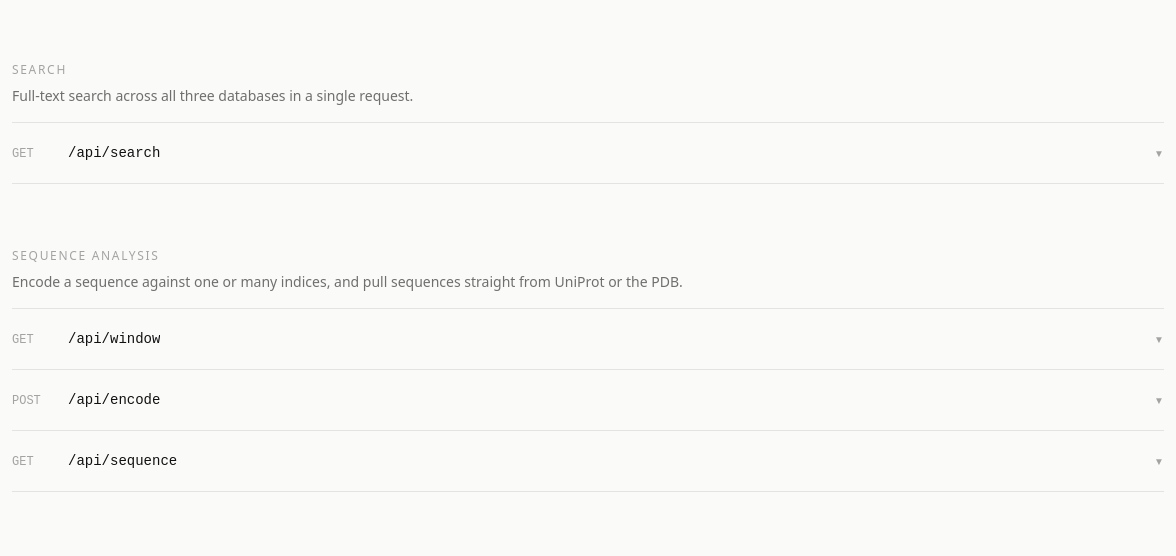
APIReference — code examples and downloads › shows a curl example by default and switches to Python and R
The image size is (1176, 556).
(page scrolled)
Click the button "GET /api/window ▼" at coordinates (114, 339), box [12,309,1164,369]
(page scrolled)
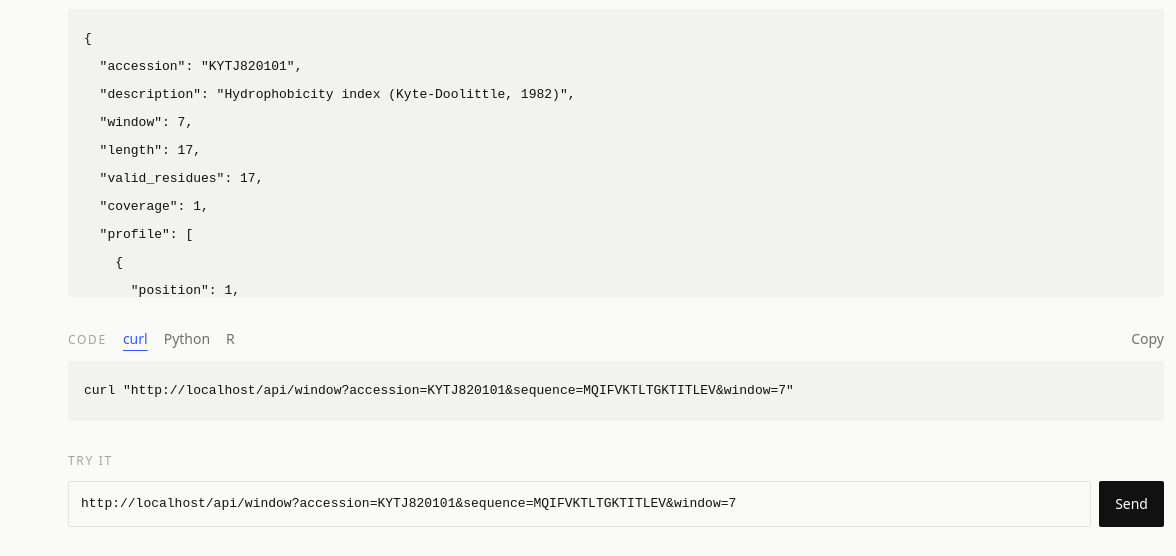
Expected: the text "curl \"http" is shown, [84,383,794,398]
Click the button "Python" at coordinates (187, 339), box [164,329,210,349]
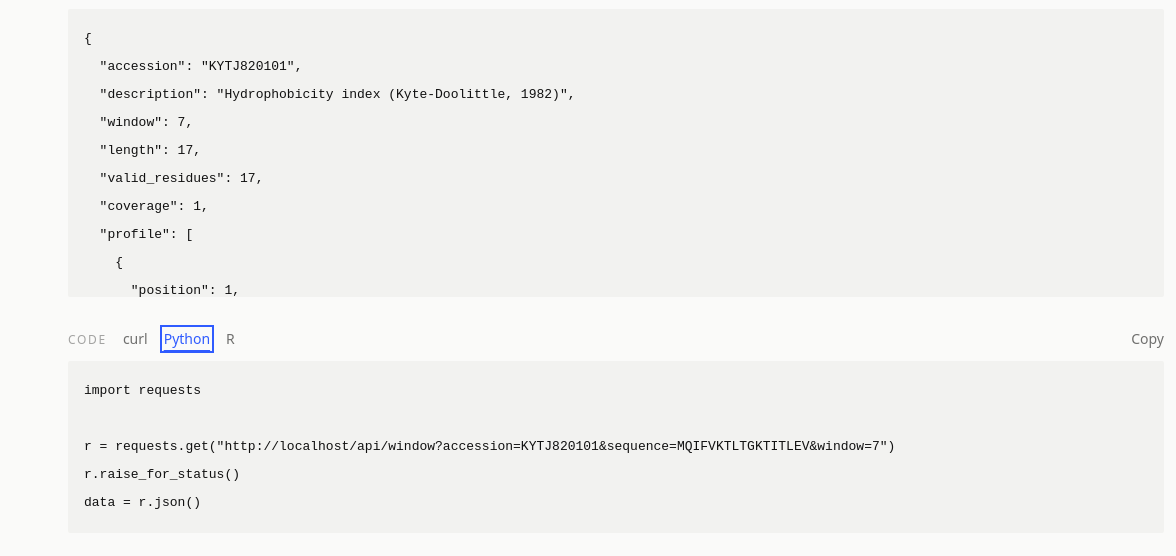
Expected: the text "import requests" is shown, [84,383,895,510]
Click the button "R" at coordinates (230, 339), box [226,329,235,349]
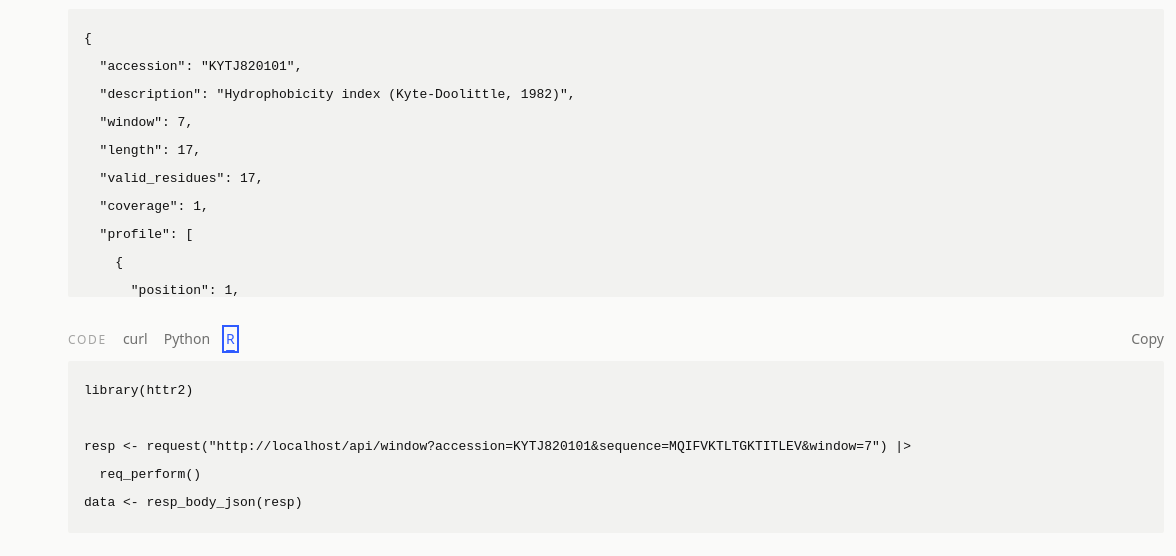
Expected: the text "library(httr2)" is shown, [84,383,911,510]
